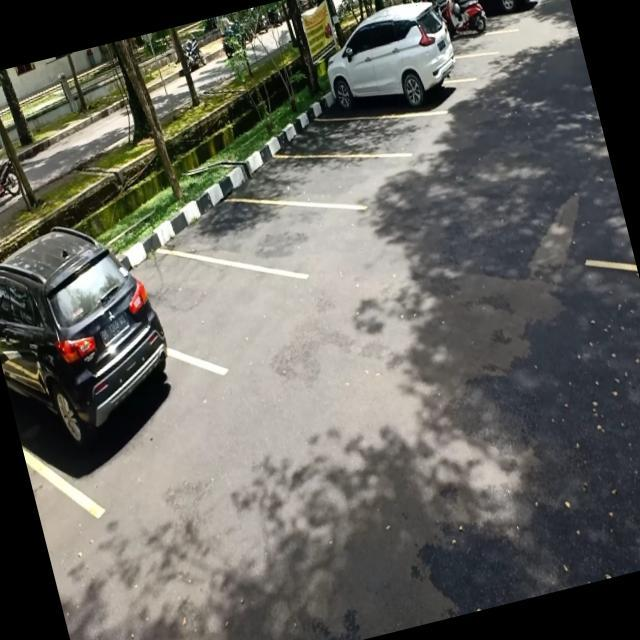empty: (143, 226, 276, 390), (210, 177, 322, 290), (267, 137, 365, 226), (308, 100, 410, 175)
occupied: (0, 265, 203, 512), (320, 16, 472, 137)
